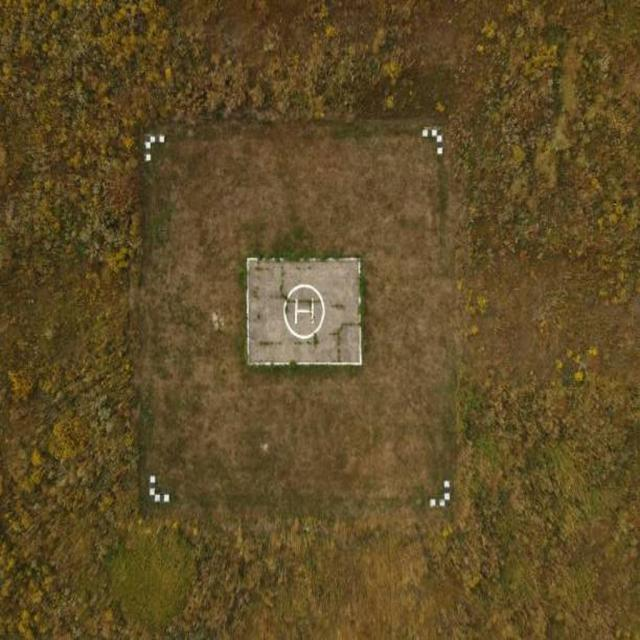helipad: (283, 282, 325, 340)
